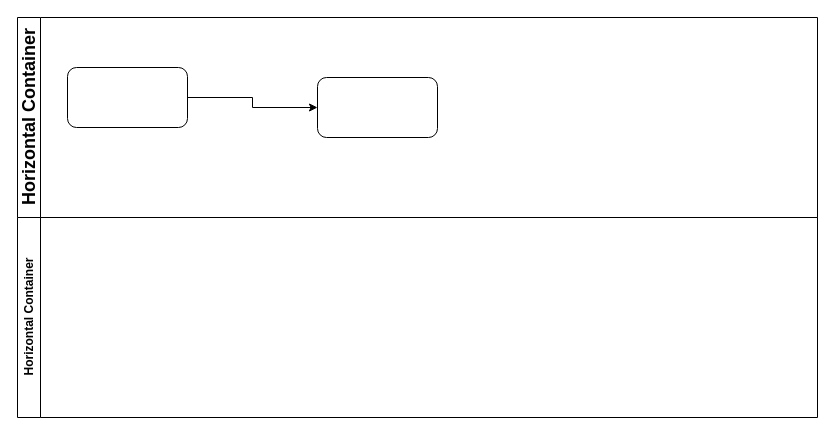
Image size: 835x435. Some labels were removed from this diagram. Each missing label, with the centre of its shape:
"Something" belongs at (x=377, y=107).
"test" belongs at (x=127, y=97).
